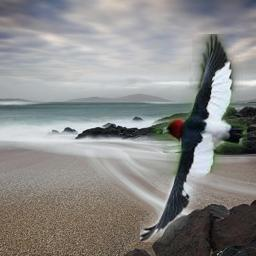Woodpecker: (140, 34, 247, 242)
